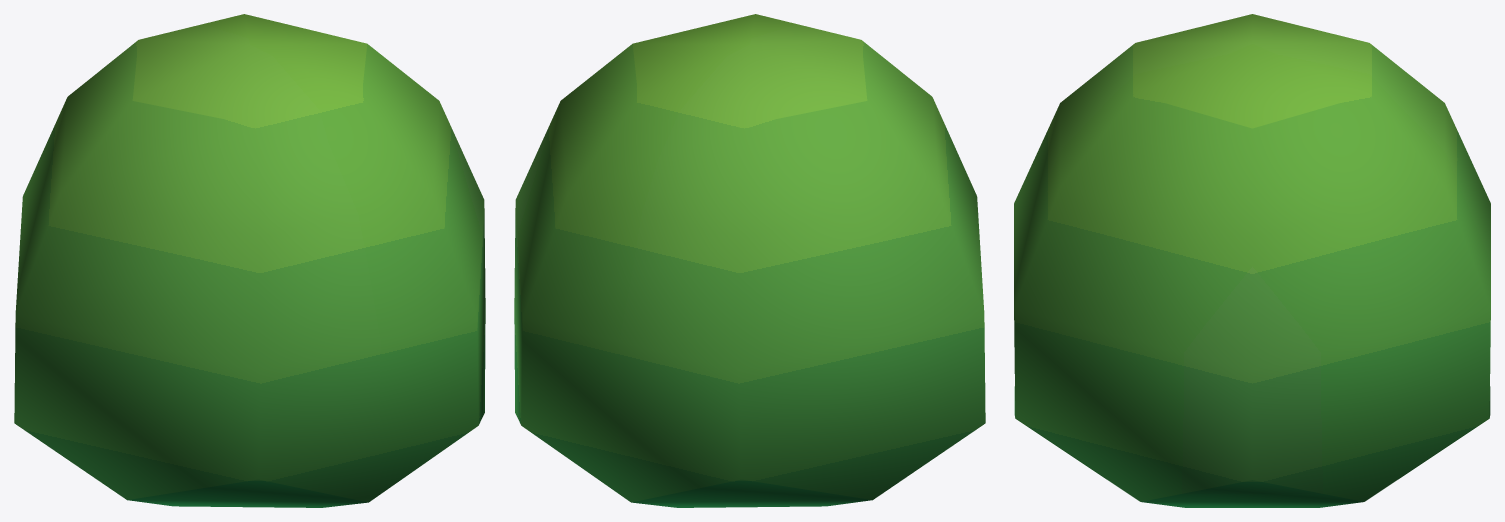
The model's file is Bush_1_A_Color1.glb.
3 renders of one model, left to right at view 1: azimuth 30°, elevation 25°; view 2: azimuth 150°, elevation 25°; view 3: azimuth 270°, elevation 25°, orthographic.
Parts seen in each view (by area): view 1: Bush_1_A_Color1; view 2: Bush_1_A_Color1; view 3: Bush_1_A_Color1.
Boxes of the visible parts, x1,y1,x2,y2 form: Bush_1_A_Color1: (14,14,485,507); Bush_1_A_Color1: (514,14,985,507); Bush_1_A_Color1: (1014,14,1490,507).
Size of the model in its own units: 0.2672 by 0.2267 by 0.2341.
Materials: 1 (1 with a texture image).
